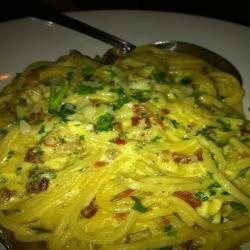carbonara: (6, 44, 250, 247)
